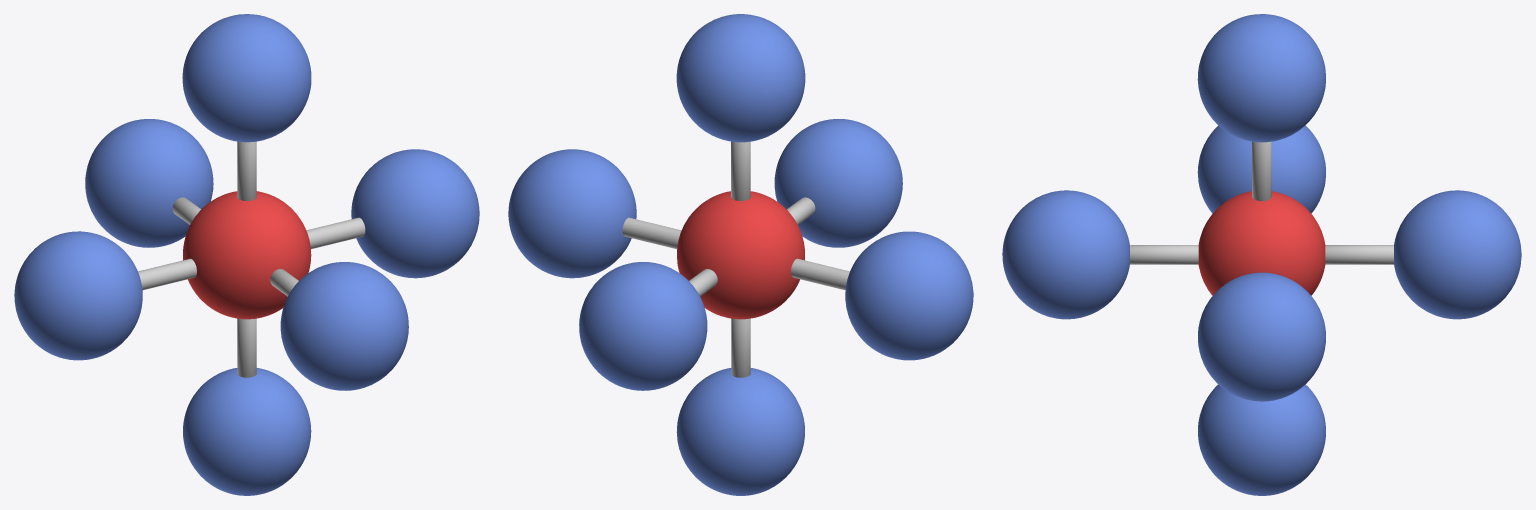
File: s049_4.02.6.0_tvar_oktaedr.glb
3 renders of one model, left to right at view 1: azimuth 30°, elevation 25°; view 2: azimuth 150°, elevation 25°; view 3: azimuth 270°, elevation 25°, orthographic.
Parts seen in each view (by area): view 1: atom_4.005_Sphere.030, atom_3.006_Sphere.030, atom_1.005_Sphere.032, atom_5.005_Sphere.030, atom_2.008_Sphere.031, atom_1.004_Sphere.030, atom_0.010_Sphere.030, vazba_4.005_Cylinder.018, vazba_5.005_Cylinder.018, vazba_2.008_Cylinder.019, vazba_3.006_Cylinder.018; view 2: atom_3.006_Sphere.030, atom_1.004_Sphere.030, atom_4.005_Sphere.030, atom_5.005_Sphere.030, atom_2.008_Sphere.031, atom_1.005_Sphere.032, atom_0.010_Sphere.030, vazba_4.005_Cylinder.018, vazba_5.005_Cylinder.018, vazba_2.008_Cylinder.019, vazba_3.006_Cylinder.018; view 3: atom_2.008_Sphere.031, atom_1.005_Sphere.032, atom_1.004_Sphere.030, atom_4.005_Sphere.030, atom_5.005_Sphere.030, atom_0.010_Sphere.030, atom_3.006_Sphere.030, vazba_1.008_Cylinder.018, vazba_1.009_Cylinder.020, vazba_4.005_Cylinder.018.
Boxes of the visible parts, x1,y1,x2,y2 form: atom_4.005_Sphere.030: [182, 14, 311, 142]; atom_3.006_Sphere.030: [14, 231, 142, 360]; atom_1.005_Sphere.032: [280, 262, 408, 390]; atom_5.005_Sphere.030: [183, 368, 311, 495]; atom_2.008_Sphere.031: [351, 149, 479, 278]; atom_1.004_Sphere.030: [85, 119, 213, 247]; atom_0.010_Sphere.030: [183, 191, 311, 319]; vazba_4.005_Cylinder.018: [237, 141, 256, 200]; vazba_5.005_Cylinder.018: [237, 318, 256, 377]; vazba_2.008_Cylinder.019: [306, 217, 365, 248]; vazba_3.006_Cylinder.018: [138, 258, 196, 289]; atom_3.006_Sphere.030: [845, 231, 973, 360]; atom_1.004_Sphere.030: [579, 262, 707, 390]; atom_4.005_Sphere.030: [676, 14, 805, 142]; atom_5.005_Sphere.030: [676, 368, 804, 495]; atom_2.008_Sphere.031: [508, 149, 636, 278]; atom_1.005_Sphere.032: [774, 119, 902, 247]; atom_0.010_Sphere.030: [677, 191, 804, 319]; vazba_4.005_Cylinder.018: [731, 141, 750, 201]; vazba_5.005_Cylinder.018: [731, 318, 750, 377]; vazba_2.008_Cylinder.019: [622, 217, 681, 248]; vazba_3.006_Cylinder.018: [791, 258, 849, 290]; atom_2.008_Sphere.031: [1198, 272, 1325, 401]; atom_1.005_Sphere.032: [1002, 190, 1129, 319]; atom_1.004_Sphere.030: [1394, 190, 1521, 319]; atom_4.005_Sphere.030: [1197, 14, 1325, 142]; atom_5.005_Sphere.030: [1198, 384, 1325, 495]; atom_0.010_Sphere.030: [1198, 191, 1325, 295]; atom_3.006_Sphere.030: [1197, 125, 1325, 213]; vazba_1.008_Cylinder.018: [1325, 245, 1393, 264]; vazba_1.009_Cylinder.020: [1130, 245, 1198, 264]; vazba_4.005_Cylinder.018: [1252, 141, 1271, 201].
Bounding box in the file's own units: 7.96 × 7.98 × 7.99.
